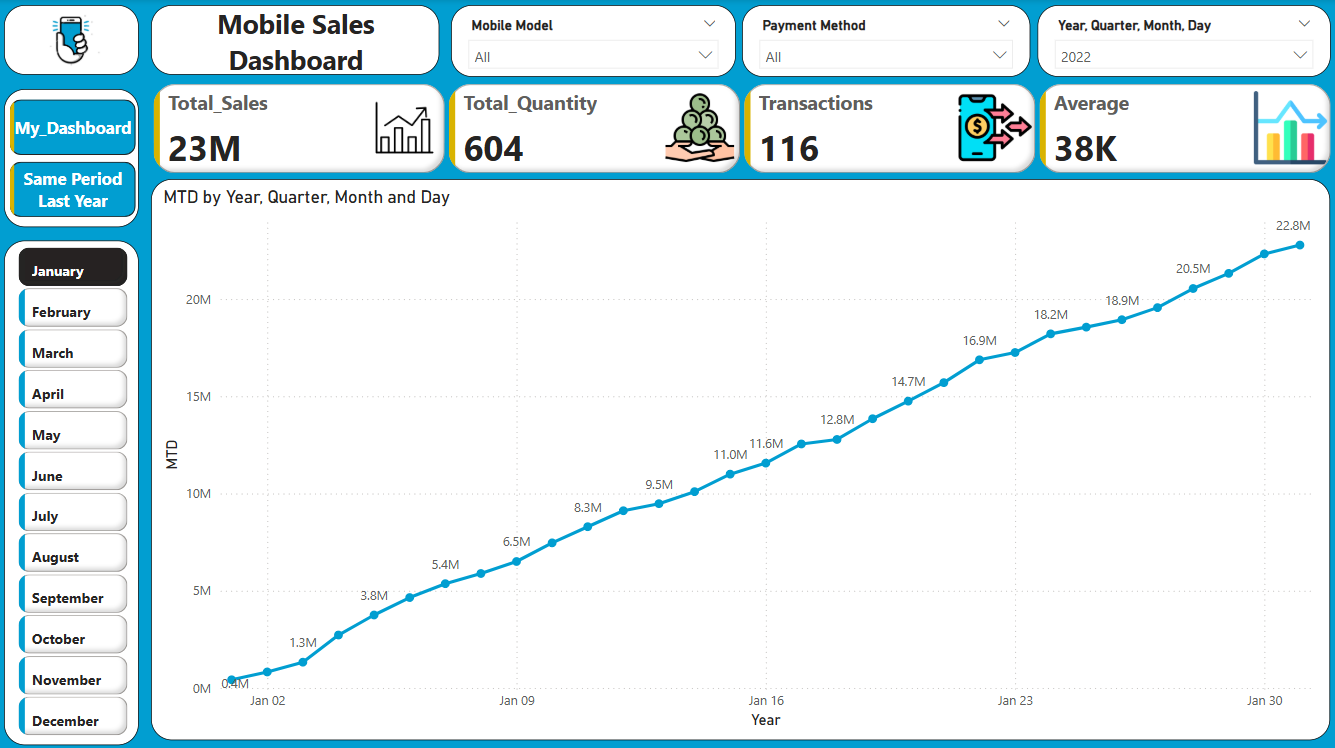

What the dashboard file says about the page in this screenshot:
{"tool":"powerbi","page":{"name":"MTD Report","canvas":[1280,720],"ordinal":1},"visuals":[{"type":"shape","box":[6.4,6.4,128.8,66.8],"z":0},{"type":"cardVisual","fields":{"Data":["Sales_Data.Total_Sales","Sales_Data.Total_Quantity","Sales_Data.Transactions","Sales_Data.Average"]},"box":[143.2,76.3,1135.7,95.4],"z":1000},{"type":"slicer","fields":{"Values":["Sales_Data.Mobile Model"]},"box":[432.6,6.4,272,68.4],"z":2000},{"type":"slicer","fields":{"Values":["Sales_Data.Payment Method"]},"box":[711,6.4,275.2,68.4],"z":3000},{"type":"slicer","fields":{"Values":["Custom_Calendar.Date.Variation.Date Hierarchy.Year","Custom_Calendar.Date.Variation.Date Hierarchy.Quarter","Custom_Calendar.Date.Variation.Date Hierarchy.Month","Custom_Calendar.Date.Variation.Date Hierarchy.Day"]},"box":[992.5,6.4,279.9,68.4],"z":4000},{"type":"image","box":[12.7,4.8,112.9,73.2],"z":5000},{"type":"shape","title":"Mobile Sales Dashboard","box":[146.3,6.4,275.2,66.8],"z":6000},{"type":"lineChart","fields":{"Category":["Custom_Calendar.Date.Variation.Date Hierarchy.Year","Custom_Calendar.Date.Variation.Date Hierarchy.Quarter","Custom_Calendar.Date.Variation.Date Hierarchy.Month","Custom_Calendar.Date.Variation.Date Hierarchy.Day"],"Y":["Sales_Data.MTD"]},"box":[146.3,171.8,1126.2,536],"z":7000},{"type":"shape","box":[6.4,230.6,128.8,482],"z":8000},{"type":"advancedSlicerVisual","fields":{"Values":["Custom_Calendar.Date.Variation.Date Hierarchy.Month"]},"box":[14.3,232.2,114.5,482],"z":9000},{"type":"shape","box":[6.4,85.9,128.8,132],"z":10000},{"type":"pageNavigator","box":[11.1,95.4,120.9,112.9],"z":11000}]}

Visuals, with their boxes in screenshot pixels (x1, y1, x2, y2), scaled from the page's 1280x720 canvas onto the 1335x748 screenshot:
shape: 7 7 141 76
cardVisual - Sales_Data.Total_Sales x Sales_Data.Total_Quantity: 149 79 1334 178
slicer - Sales_Data.Mobile Model: 451 7 735 78
slicer - Sales_Data.Payment Method: 742 7 1029 78
slicer - Custom_Calendar.Date.Variation.Date Hierarchy.Year x Custom_Calendar.Date.Variation.Date Hierarchy.Quarter: 1035 7 1327 78
image: 13 5 131 81
"Mobile Sales Dashboard" shape: 153 7 440 76
lineChart - Custom_Calendar.Date.Variation.Date Hierarchy.Year x Custom_Calendar.Date.Variation.Date Hierarchy.Quarter: 153 178 1327 735
shape: 7 240 141 740
advancedSlicerVisual - Custom_Calendar.Date.Variation.Date Hierarchy.Month: 15 241 134 742
shape: 7 89 141 226
pageNavigator: 12 99 138 216
